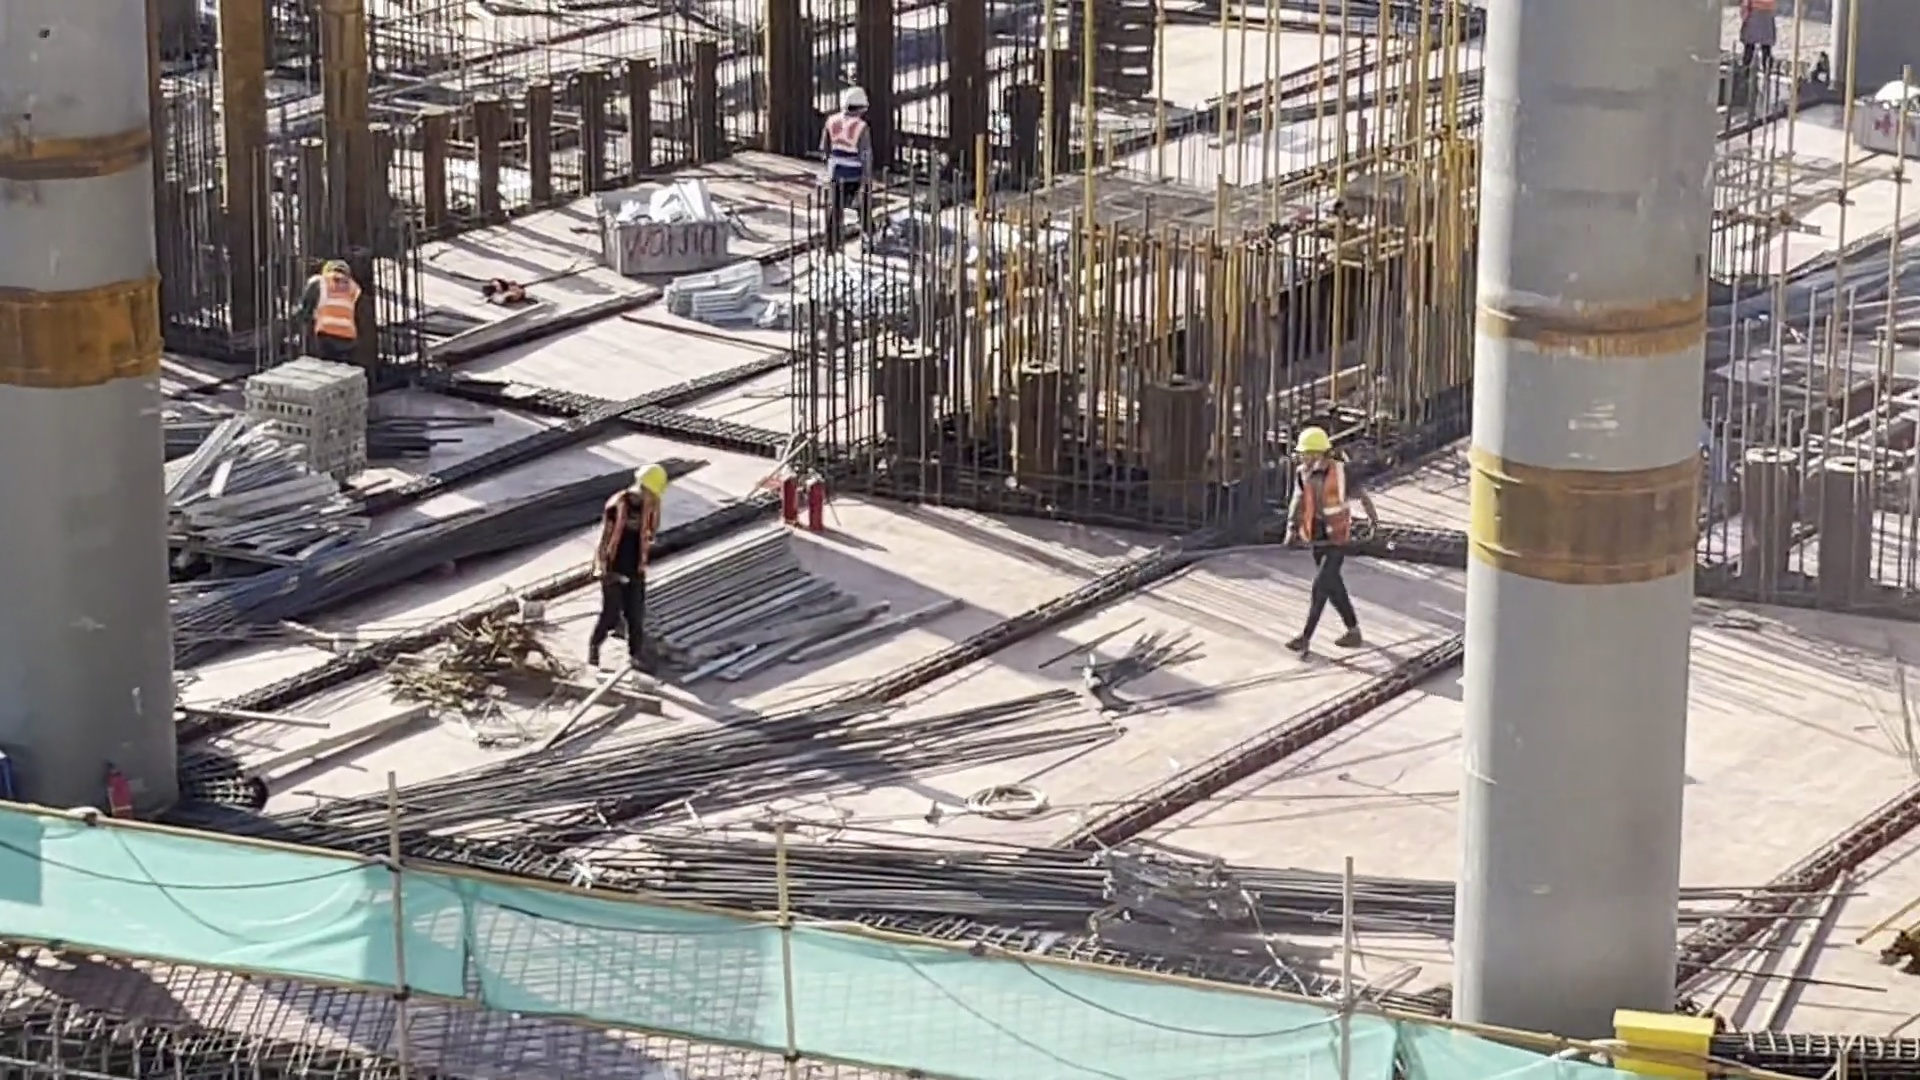ebox: (1593, 989, 1735, 1080)
helmet: (629, 450, 668, 513), (1293, 420, 1333, 461), (837, 76, 871, 116), (320, 256, 349, 272)
hopper: (591, 169, 755, 279)
person: (1263, 419, 1381, 663), (575, 454, 685, 665), (808, 75, 891, 220), (306, 243, 381, 393)
vest: (1293, 460, 1355, 556), (594, 481, 657, 570), (830, 113, 872, 182), (311, 275, 357, 337)
wood: (611, 517, 855, 687)
